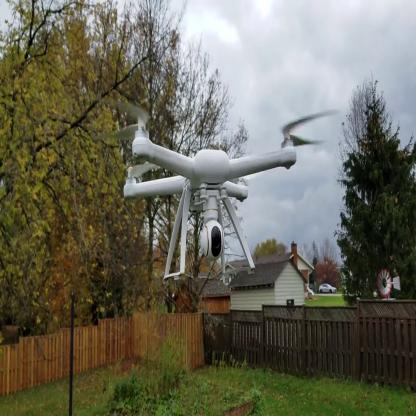drone: (95, 82, 348, 232)
